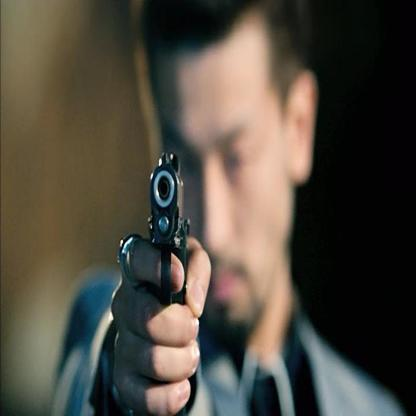gun: (142, 147, 190, 321)
